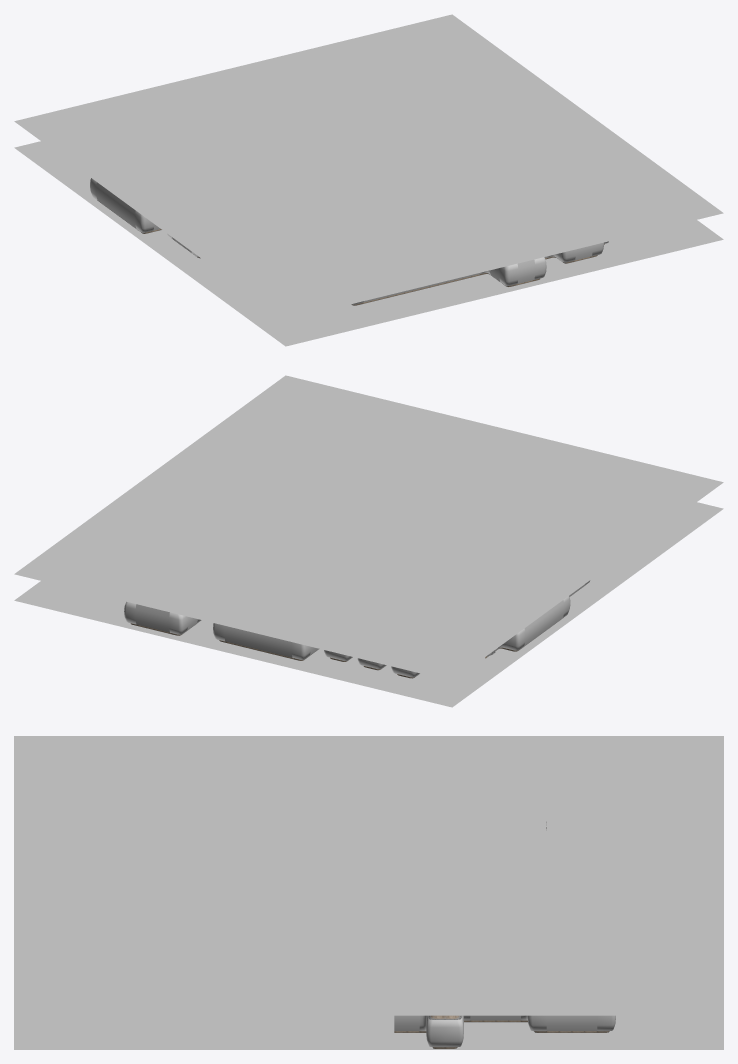
Rendered from Estetica del nivel.FBX.
3 views of the same model, one above another, from view 1: azimuth 30°, elevation 25°; view 2: azimuth 150°, elevation 25°; view 3: azimuth 270°, elevation 25° (orthographic). The views are drawn at different scales.
Parts seen in each view (by area): view 1: Estetica_Piso&techo; view 2: Estetica_Piso&techo; view 3: Estetica_Piso&techo, Wall_concave, Wall_concave001.
Part boxes in pixels (bbox=[...]): Estetica_Piso&techo: bbox=[14, 14, 723, 346]; Estetica_Piso&techo: bbox=[14, 375, 723, 707]; Estetica_Piso&techo: bbox=[14, 736, 723, 1049]; Wall_concave: bbox=[426, 1015, 444, 1048]; Wall_concave001: bbox=[445, 1015, 463, 1048].
Size of the model in its own units: 2066 by 118 by 2205.
